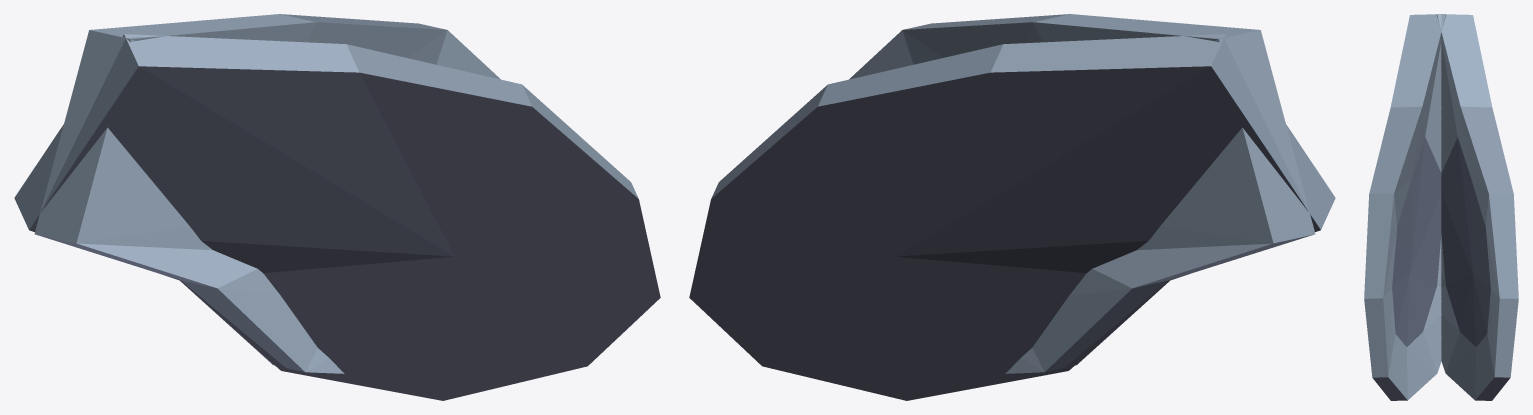
Rendered from fb_droop.glb.
The picture shows the model from 3 angles, left to right: view 1: azimuth 30°, elevation 25°; view 2: azimuth 150°, elevation 25°; view 3: azimuth 270°, elevation 25°; orthographic projection. The views are drawn at different scales.
Visible parts, largest first — view 1: Ear_R, Ear_L; view 2: Ear_L, Ear_R; view 3: Ear_L, Ear_R.
Part boxes in pixels (left/top/right/bottom): Ear_R: left=14, top=34, right=660, bottom=400; Ear_L: left=34, top=14, right=500, bottom=373; Ear_L: left=689, top=34, right=1335, bottom=400; Ear_R: left=849, top=14, right=1315, bottom=373; Ear_L: left=1436, top=14, right=1518, bottom=400; Ear_R: left=1364, top=14, right=1446, bottom=400.
Size of the model in its own units: 0.1014 by 0.0704 by 0.0368.
Materials: 1 (1 with a texture image).
